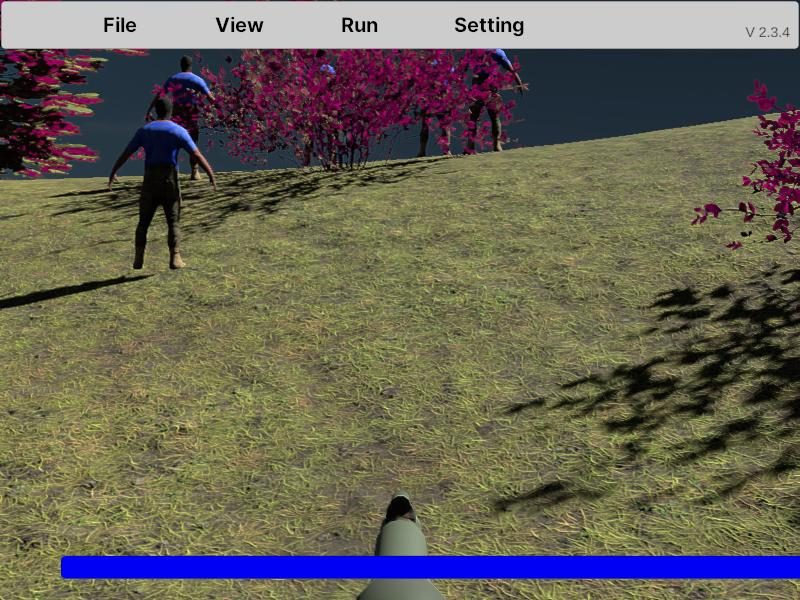Human: (109, 94, 216, 271), (141, 55, 227, 193)
